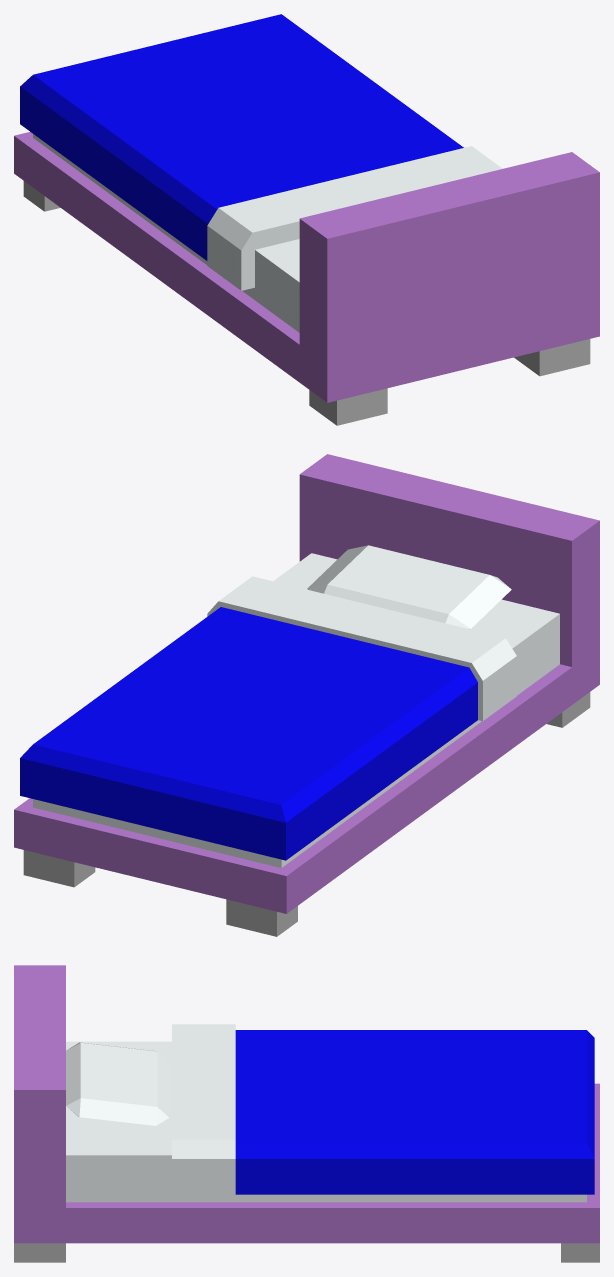
The model's file is bedSingle.glb.
3 views of the same model, one above another, from view 1: azimuth 30°, elevation 25°; view 2: azimuth 150°, elevation 25°; view 3: azimuth 270°, elevation 25° (orthographic). The views are drawn at different scales.
Visible parts, largest first — view 1: bedSingle; view 2: bedSingle; view 3: bedSingle.
Part boxes in pixels (box(x1,y1,x2,y2)): bedSingle: box(14, 14, 599, 425); bedSingle: box(14, 454, 599, 936); bedSingle: box(14, 965, 599, 1262).
Size of the model in its own units: 1.24 by 0.8134 by 2.44.
